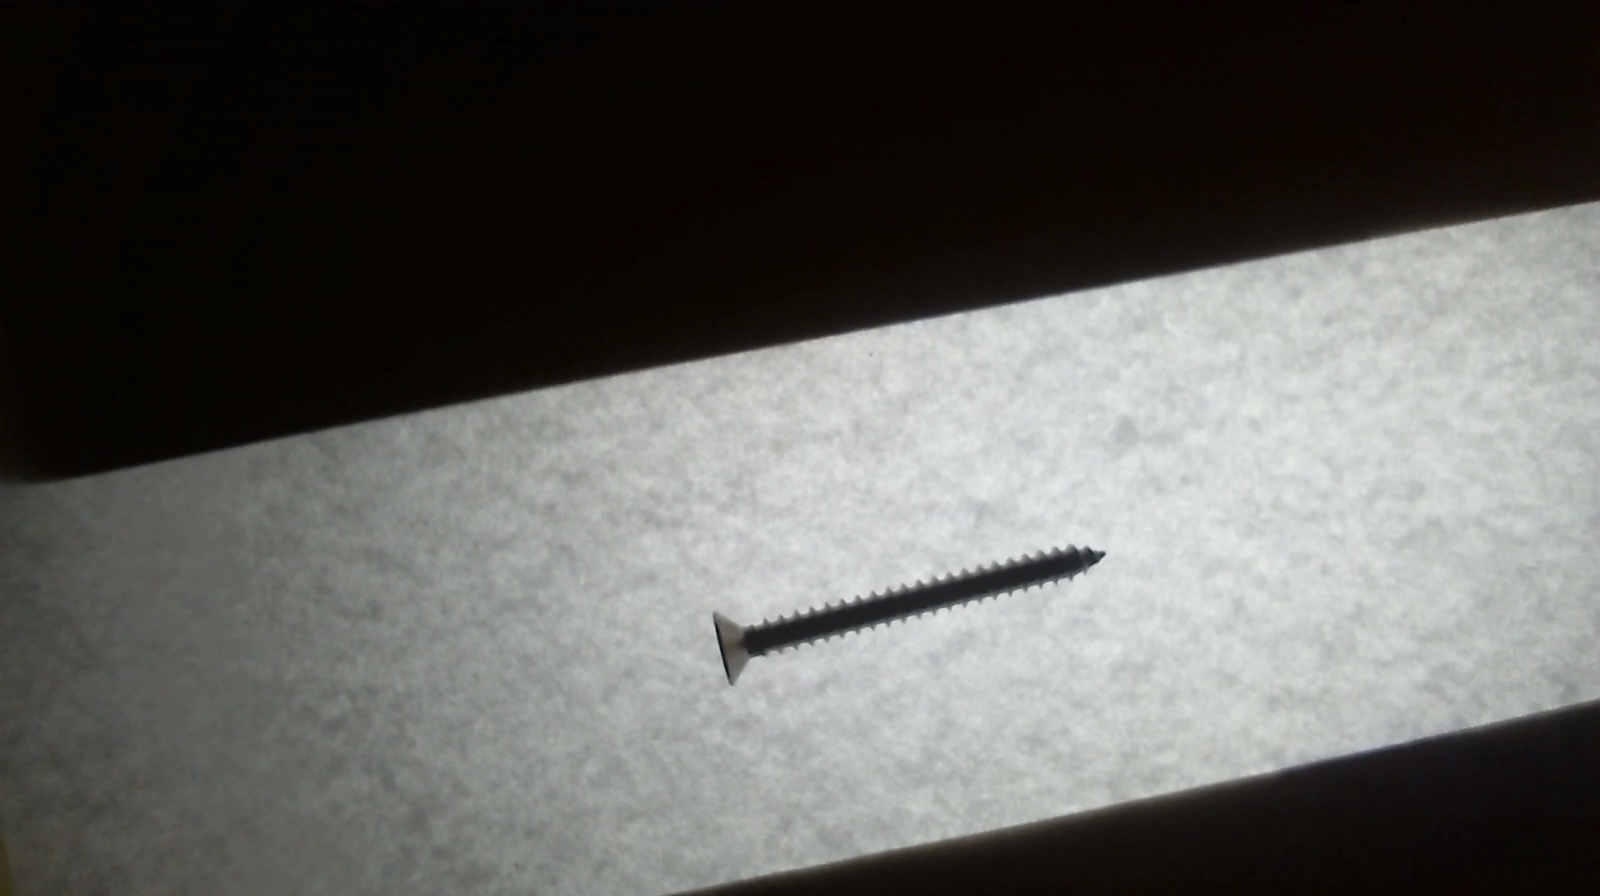S002: (693, 523, 1136, 700)
